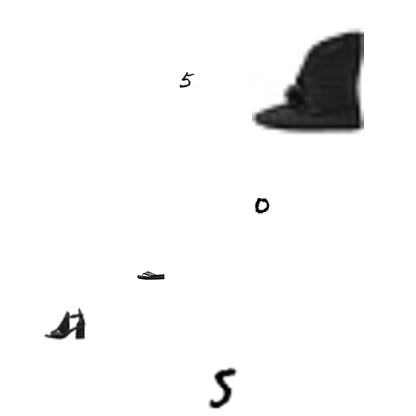0: (250, 194, 272, 216)
5: (195, 358, 251, 414), (175, 69, 197, 91)
Ankle_boot: (252, 25, 364, 137)
Sandal: (44, 302, 86, 344), (137, 261, 165, 289)
